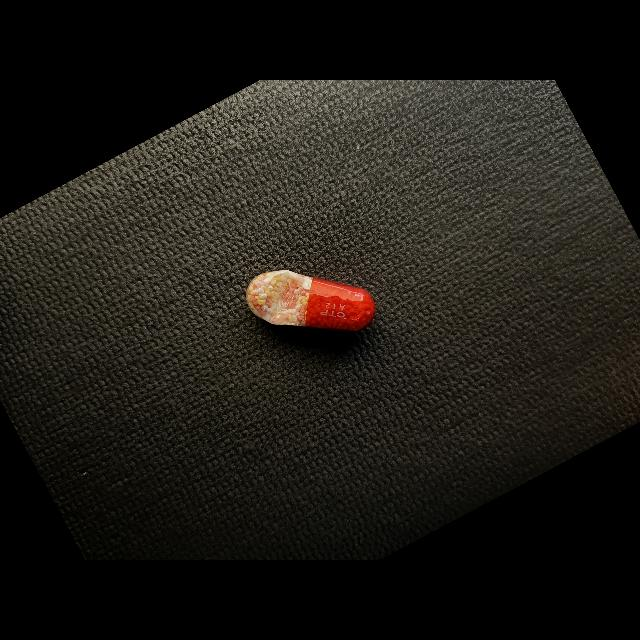Defective Capsule: (246, 270, 375, 331)
